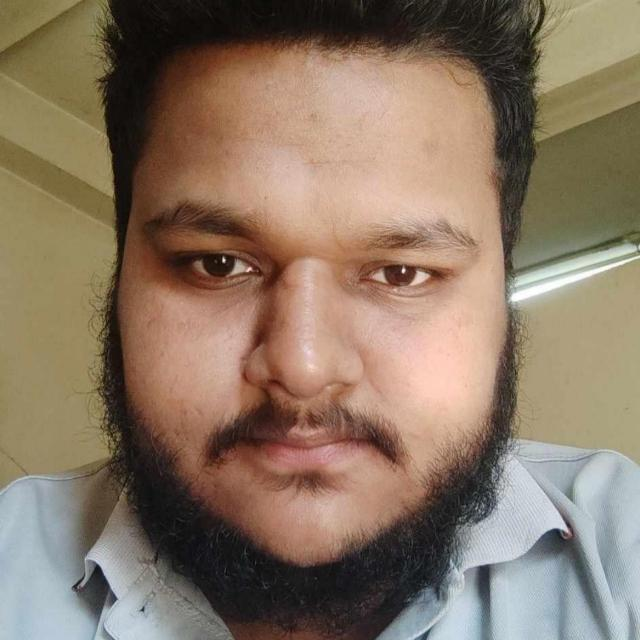Natural: (78, 60, 542, 605)
